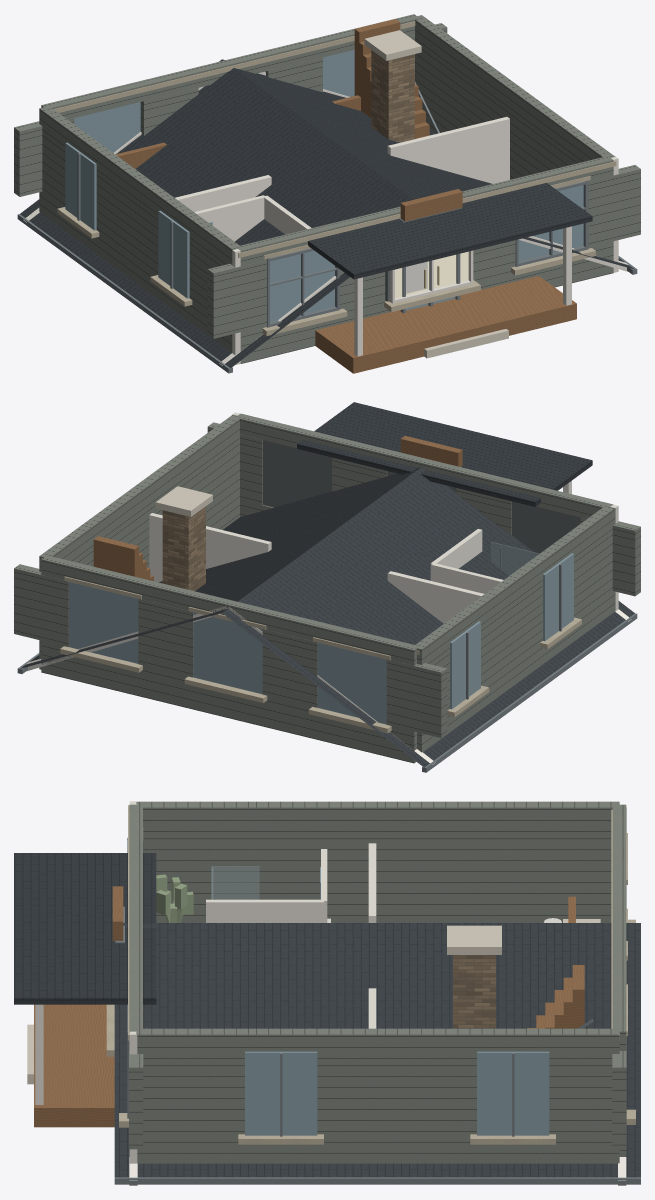
The model's file is house.glb.
3 renders of one model, top to bottom at view 1: azimuth 30°, elevation 25°; view 2: azimuth 150°, elevation 25°; view 3: azimuth 270°, elevation 25°, orthographic. The views are drawn at different scales.
Visible parts, largest first — view 1: roof_roof_slate.002, ground_front_cedar, ground_left_cedar, ground_front_oak, ground_right_cedar, ground_front_slate, ground_back_cedar, level_inside_ivory.002, ground_front_glass.002, ground_left_glass.001, roof_roof_brick_buff, ground_front_limestone.001 (+16 smaller); view 2: roof_roof_slate.002, ground_back_cedar, ground_left_cedar, ground_back_glass.002, ground_front_cedar, ground_front_slate, ground_right_cedar, level_inside_ivory.002, ground_front_black.001, ground_left_glass.001, ground_back_limestone.001, roof_roof_brick_buff (+7 smaller); view 3: roof_roof_slate.002, ground_left_cedar, ground_right_cedar, ground_front_slate, ground_right_glass.001, ground_front_oak, ground_back_cedar, ground_front_cedar, level_inside_ivory.002, roof_roof_metal.002, roof_roof_brick_buff, ground_inside_oak.002 (+7 smaller).
Part boxes in pixels (box(x1,y1,x2,y2)): roof_roof_slate.002: box(20, 59, 634, 367); ground_front_cedar: box(207, 156, 640, 363); ground_left_cedar: box(39, 106, 242, 352); ground_front_oak: box(315, 189, 576, 373); ground_right_cedar: box(414, 15, 615, 179); ground_front_slate: box(308, 183, 592, 279); ground_back_cedar: box(14, 14, 447, 196); level_inside_ivory.002: box(175, 117, 509, 241); ground_front_glass.002: box(270, 185, 583, 322); ground_left_glass.001: box(65, 142, 189, 298); roof_roof_brick_buff: box(371, 50, 414, 142); ground_front_limestone.001: box(238, 161, 616, 336); roof_roof_slate.002: box(20, 467, 634, 767); ground_back_cedar: box(14, 555, 447, 763); ground_left_cedar: box(415, 506, 615, 752); ground_back_glass.002: box(69, 582, 386, 724); ground_front_cedar: box(207, 413, 640, 596); ground_front_slate: box(297, 402, 592, 506); ground_right_cedar: box(39, 414, 241, 669); level_inside_ivory.002: box(149, 513, 503, 623); ground_front_black.001: box(263, 440, 580, 554); ground_left_glass.001: box(450, 553, 573, 709); ground_back_limestone.001: box(41, 558, 419, 733); roof_roof_brick_buff: box(162, 506, 205, 591); roof_roof_slate.002: box(114, 923, 640, 1177); ground_left_cedar: box(136, 801, 619, 922); ground_right_cedar: box(136, 1028, 619, 1163); ground_front_slate: box(14, 853, 156, 1004); ground_right_glass.001: box(245, 1051, 549, 1135); ground_front_oak: box(34, 886, 123, 1127); ground_back_cedar: box(612, 804, 626, 1156); ground_front_cedar: box(129, 804, 143, 1156); level_inside_ivory.002: box(206, 843, 376, 1028); roof_roof_metal.002: box(114, 1177, 640, 1184); roof_roof_brick_buff: box(453, 955, 495, 1028); ground_inside_oak.002: box(527, 965, 584, 1028).
Size of the model in its own units: 11.47 by 3.9 by 11.68.
20 materials, 5 textured.
